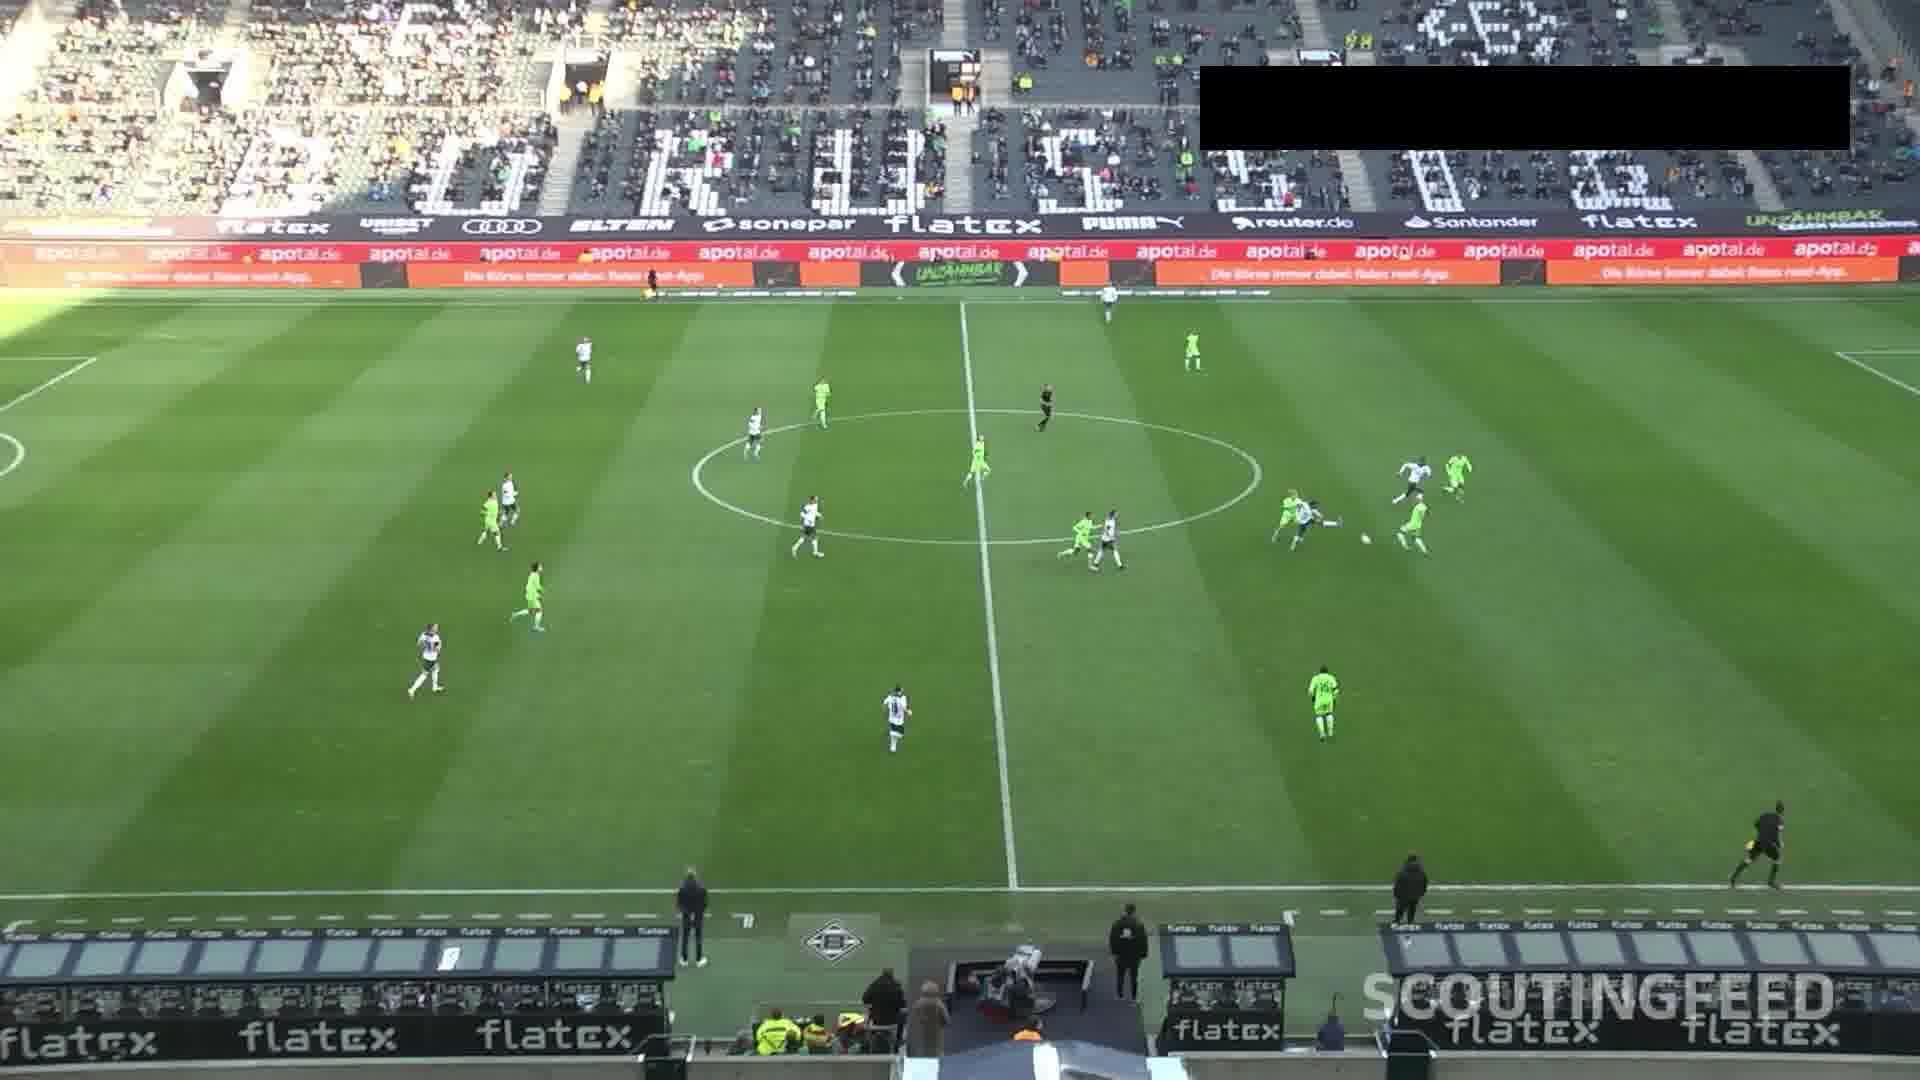football: (1361, 535, 1373, 545)
